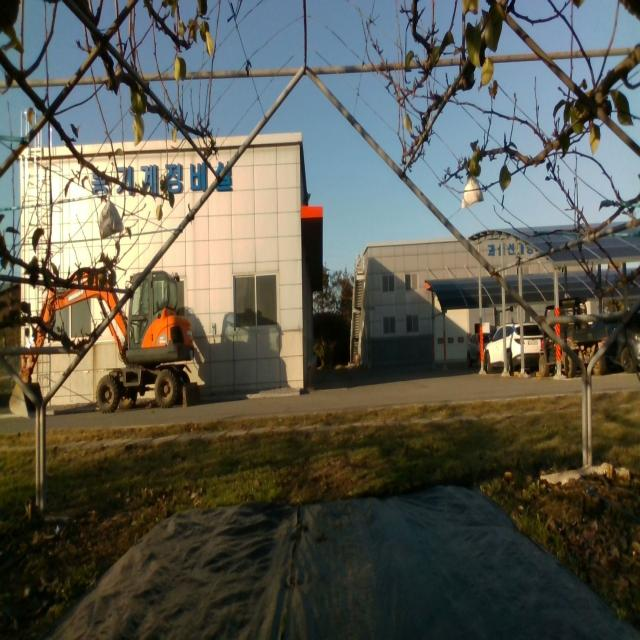pearbags: (99, 198, 125, 241), (460, 173, 483, 211)
